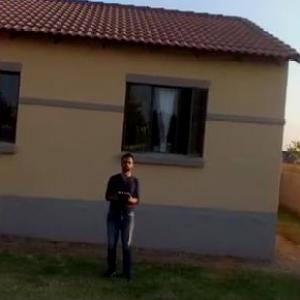follow: (97, 150, 142, 289)
